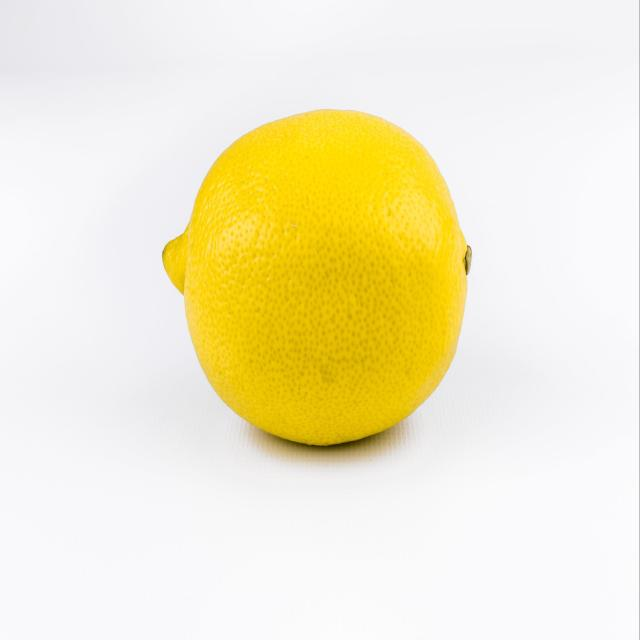lemon: (156, 103, 477, 454)
